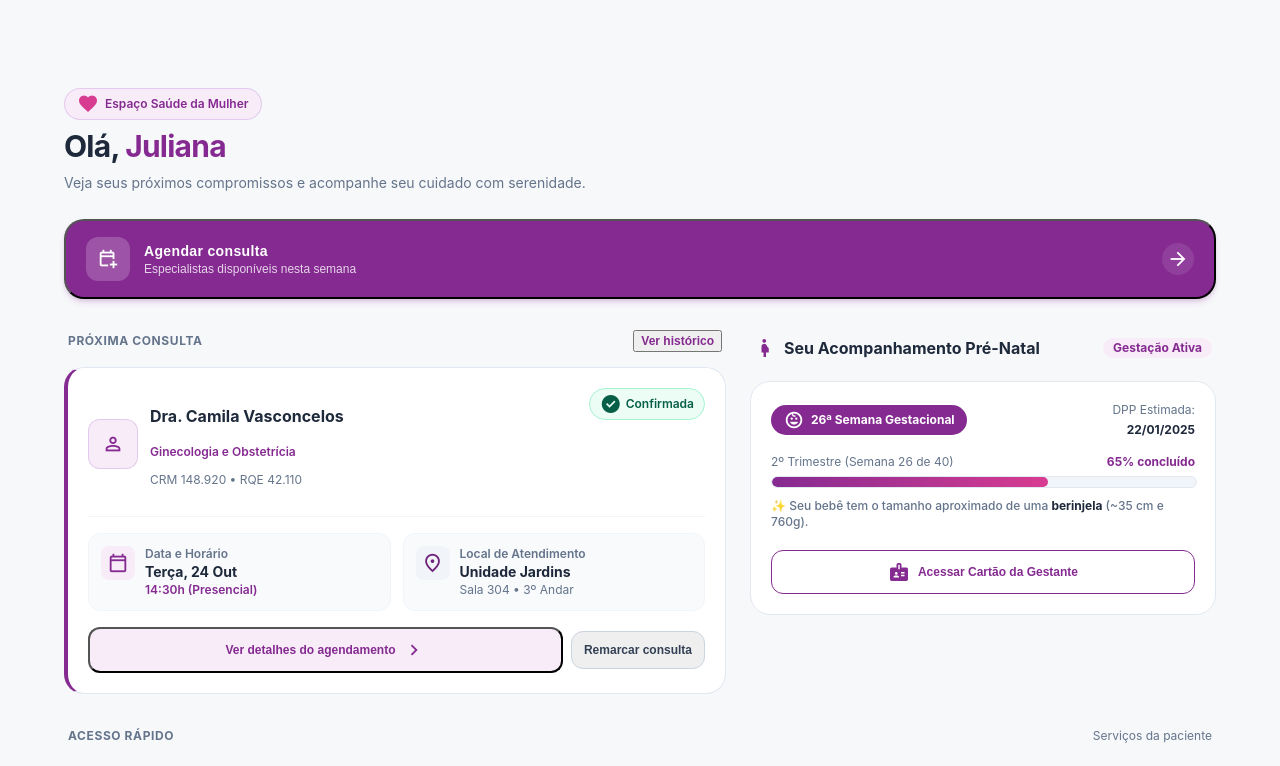
Scenario: PatientDashboardPage Component (Tela 5 - SPEC-0036 / Stitch Serene Bloom) › valida regra RN-013 de antecedência mínima de 2 horas para remarcação online
Click the button "Remarcar consulta".
click(638, 650)  # box [571,631,705,669]
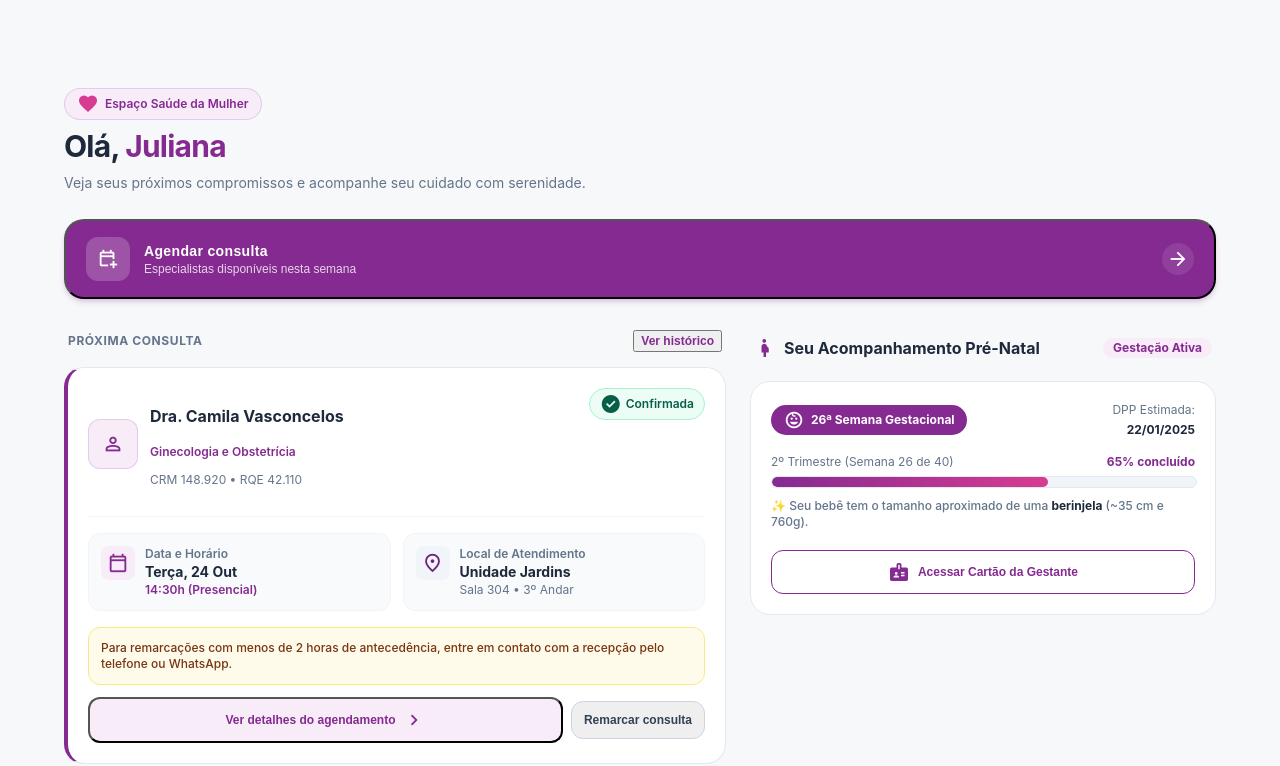
Check: the text "Para remarcações com menos de 2 horas de antecedência, entre em contato com a recepção" is shown, box [101,640,664,671]
